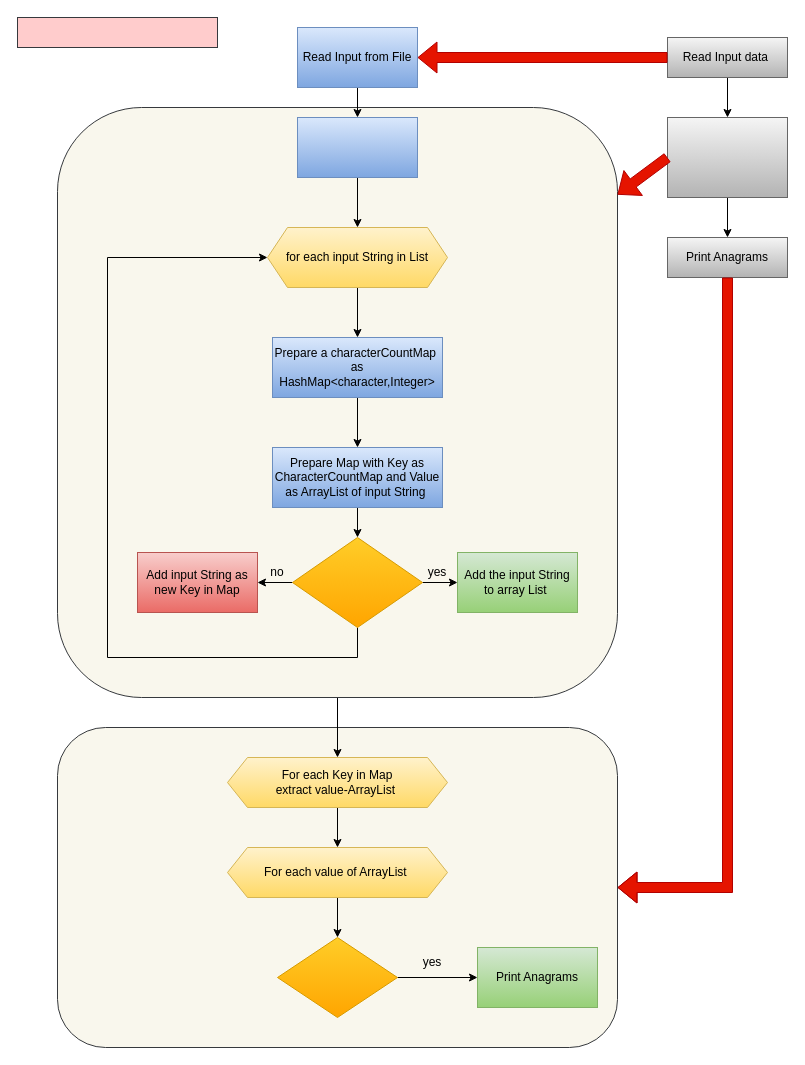
Some shapes in this 805 by 1065 pixel diagram are drawn without their labels. Here are the shapes that lost their labels. From the top down, the centre of each, then its label:
At pixel 117 32: "Flow Diagram".
At pixel 357 147: "Add file contents to List (ArrayList)".
At pixel 727 157: "Process and find anagrams in data".
At pixel 357 582: "If Key is already Present".
At pixel 337 977: "if ArrayList size >1".
